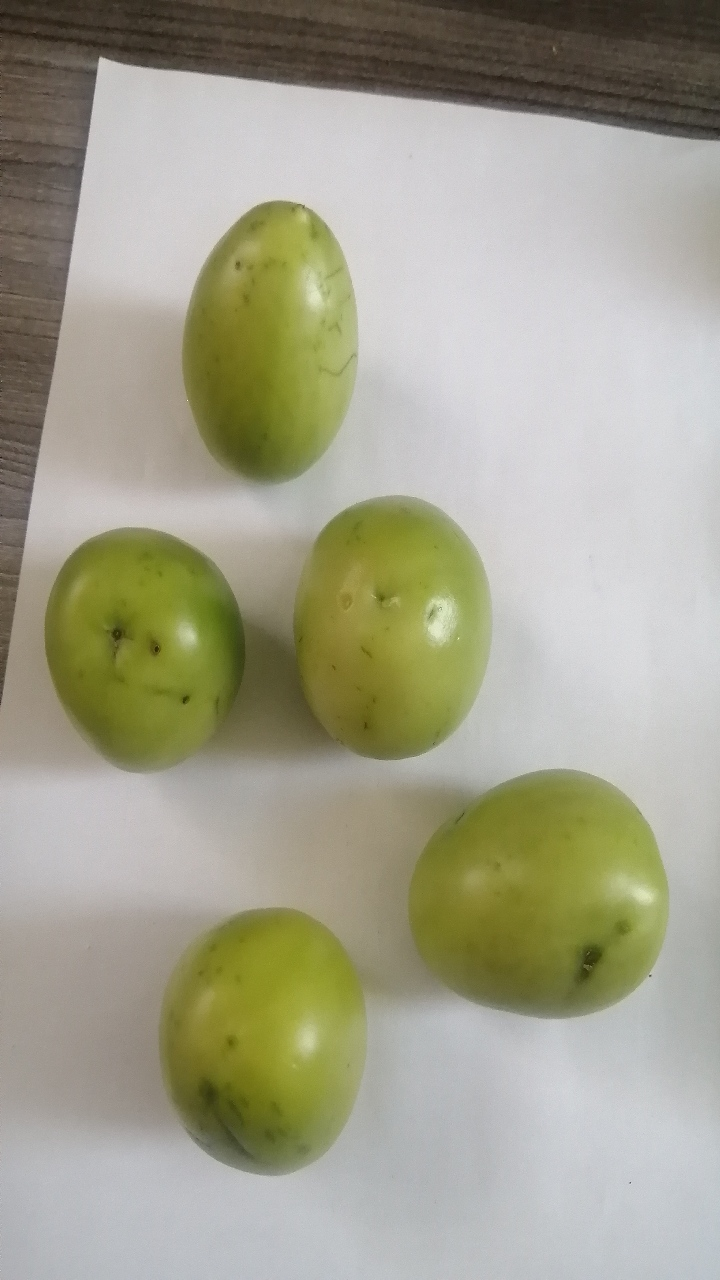tomateVerde: (138, 892, 412, 1195), (374, 757, 677, 1031), (161, 171, 406, 489), (272, 488, 528, 789), (31, 492, 261, 806)
